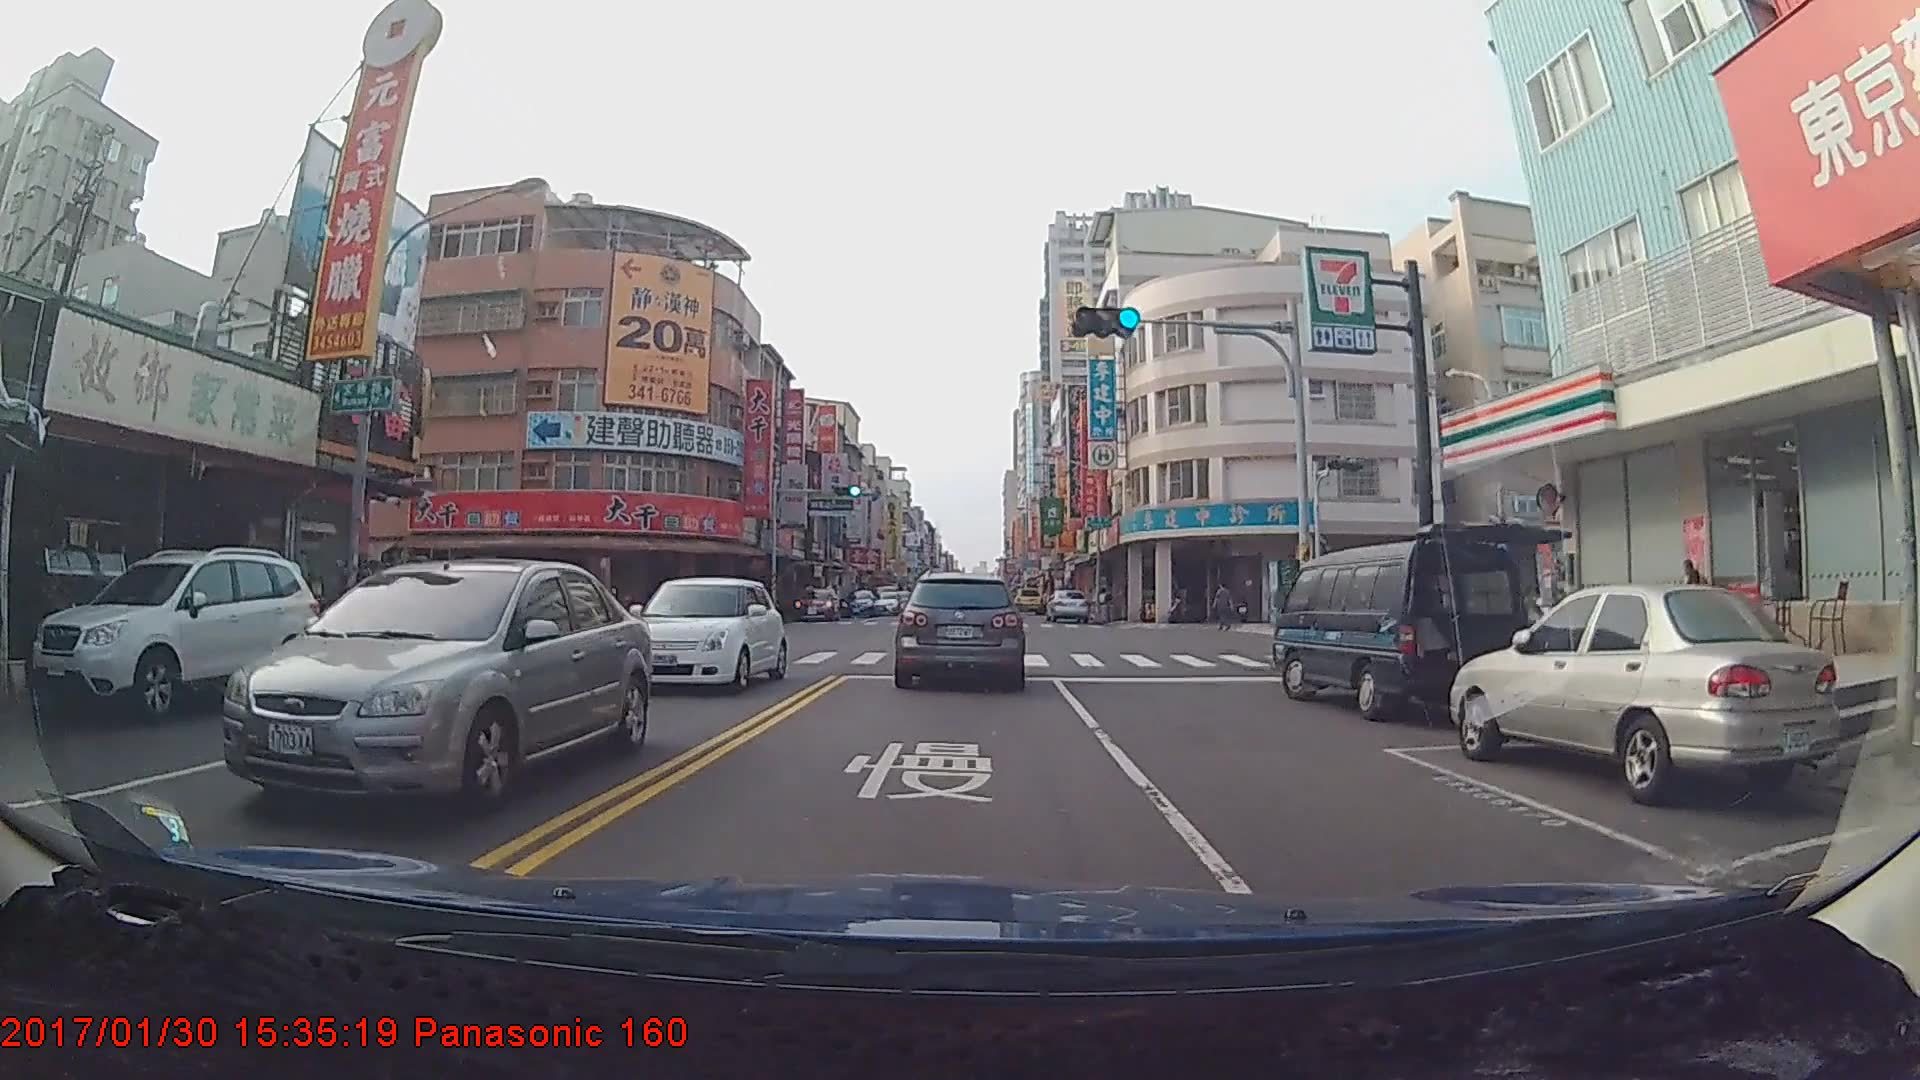pedestrian: (1216, 584, 1237, 635)
vehicle: (216, 554, 652, 817), (1457, 578, 1841, 805), (18, 546, 328, 727), (1276, 534, 1532, 722), (612, 573, 785, 695), (895, 570, 1027, 688), (1044, 587, 1092, 625), (794, 584, 839, 619), (839, 589, 876, 615), (1013, 586, 1044, 612)
